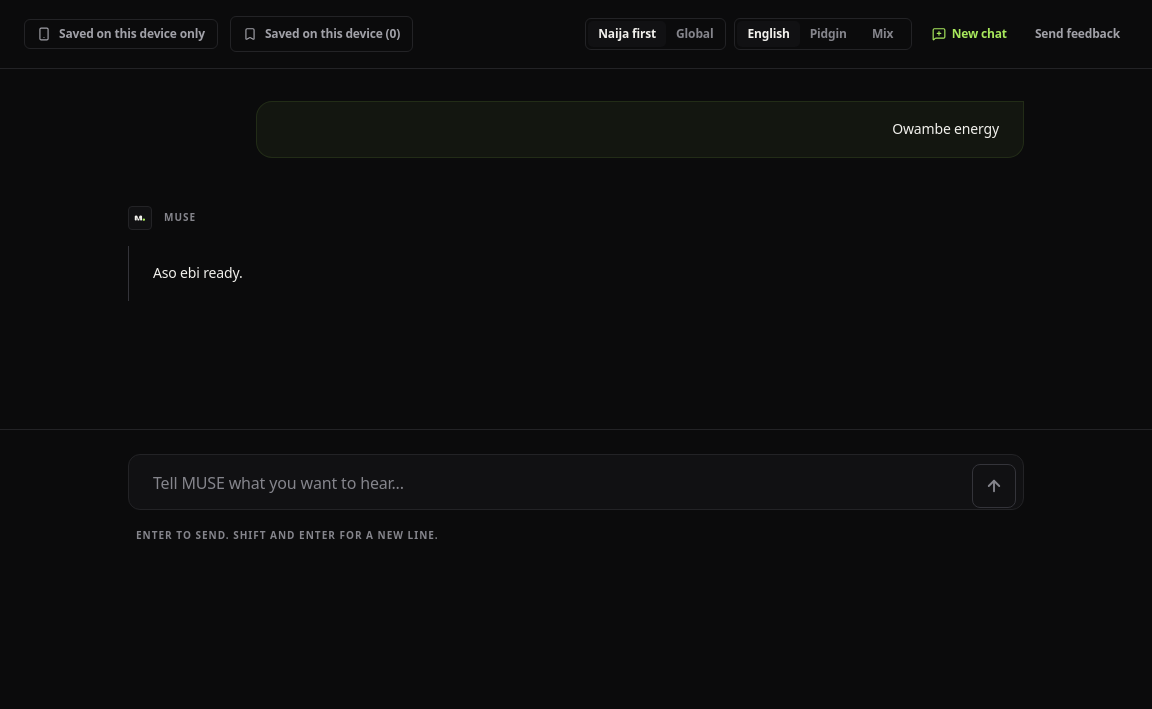
Test: Stage D Chat Quality › restores a guest chat from the device on the next visit
The image size is (1152, 709).
Expected: the text "Owambe energy" is shown, [892, 119, 999, 138]
Step 1. Click the button "New chat" → (969,34), box [920, 20, 1019, 48]
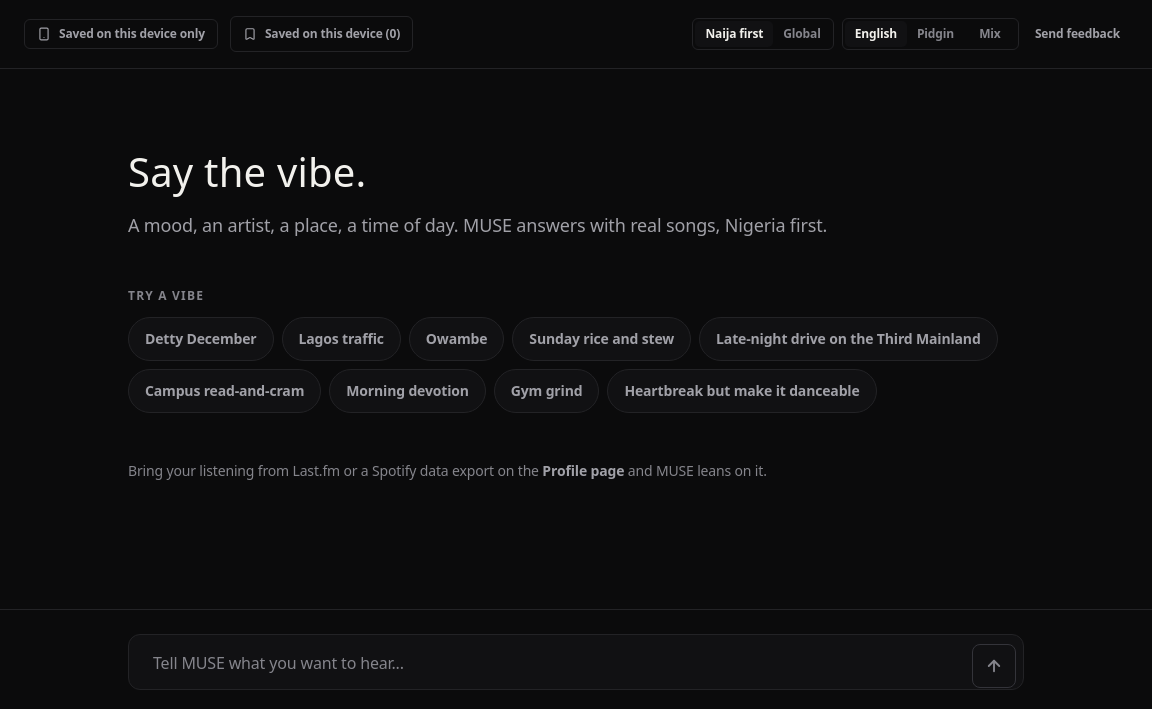
Expected: the heading "Say the vibe." is shown, [128, 144, 366, 199]
